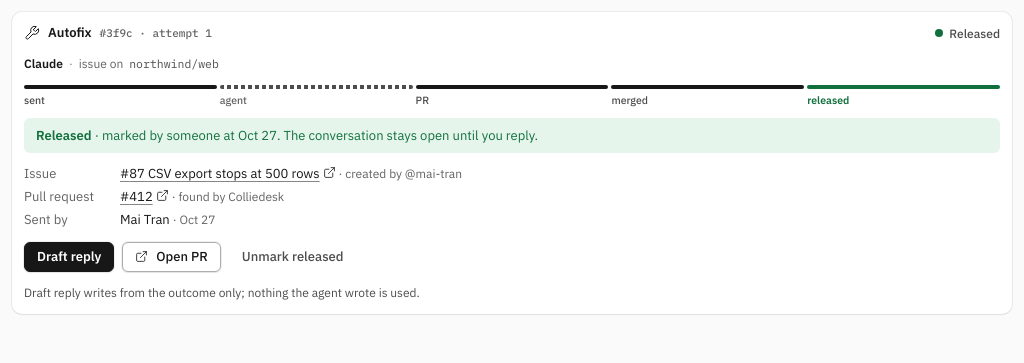
Scenario: drops the “being written” line when the AI draft fails
The image size is (1024, 363).
Click the button "Draft reply". click: [69, 257]
box: [24,242,114,272]
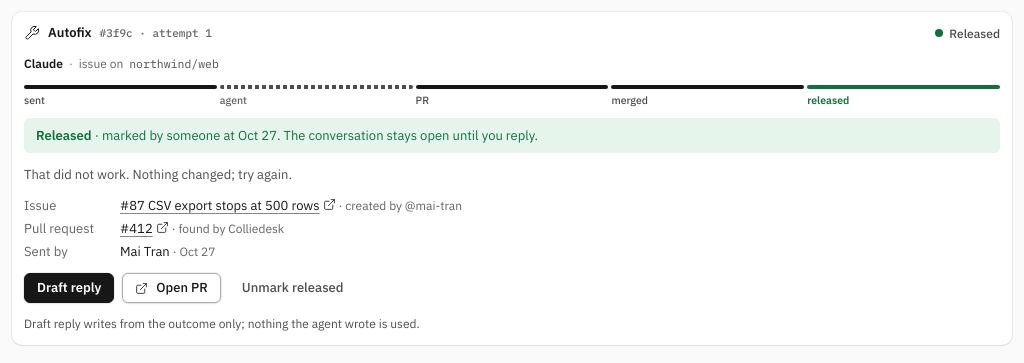
Result: the message "That did not work. Nothing changed; try again." is shown at [24,166,292,183]
